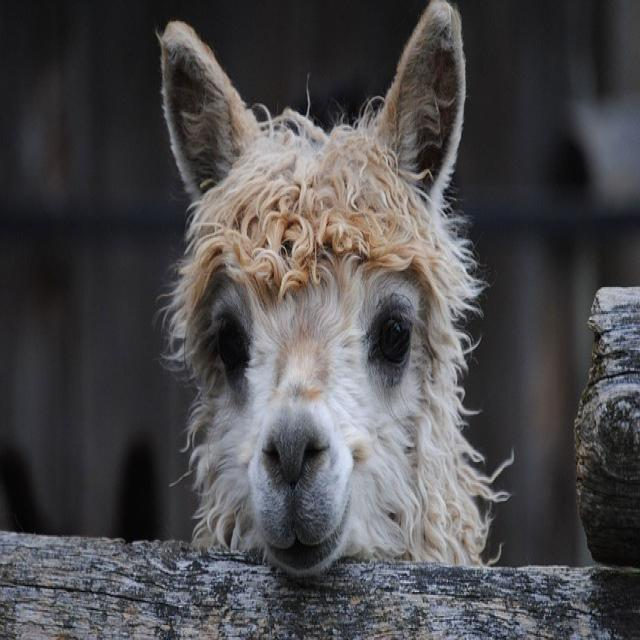Herbivorous: (158, 0, 503, 580)
